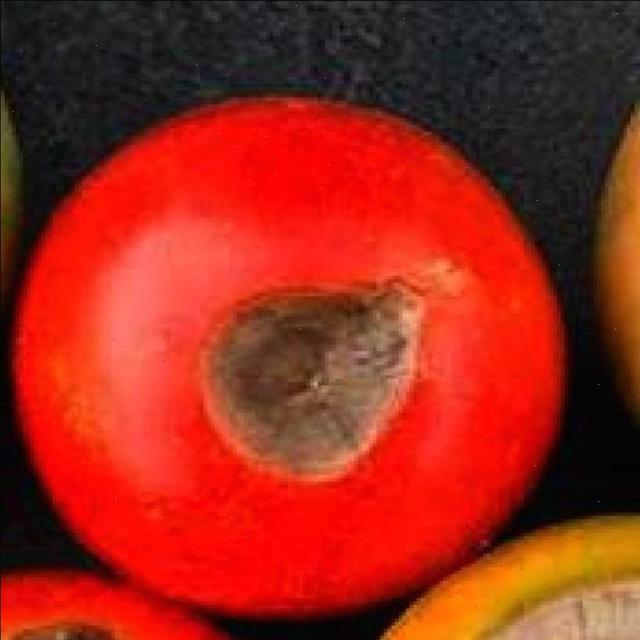Blossom End Rot Fruit: (135, 181, 292, 321)
